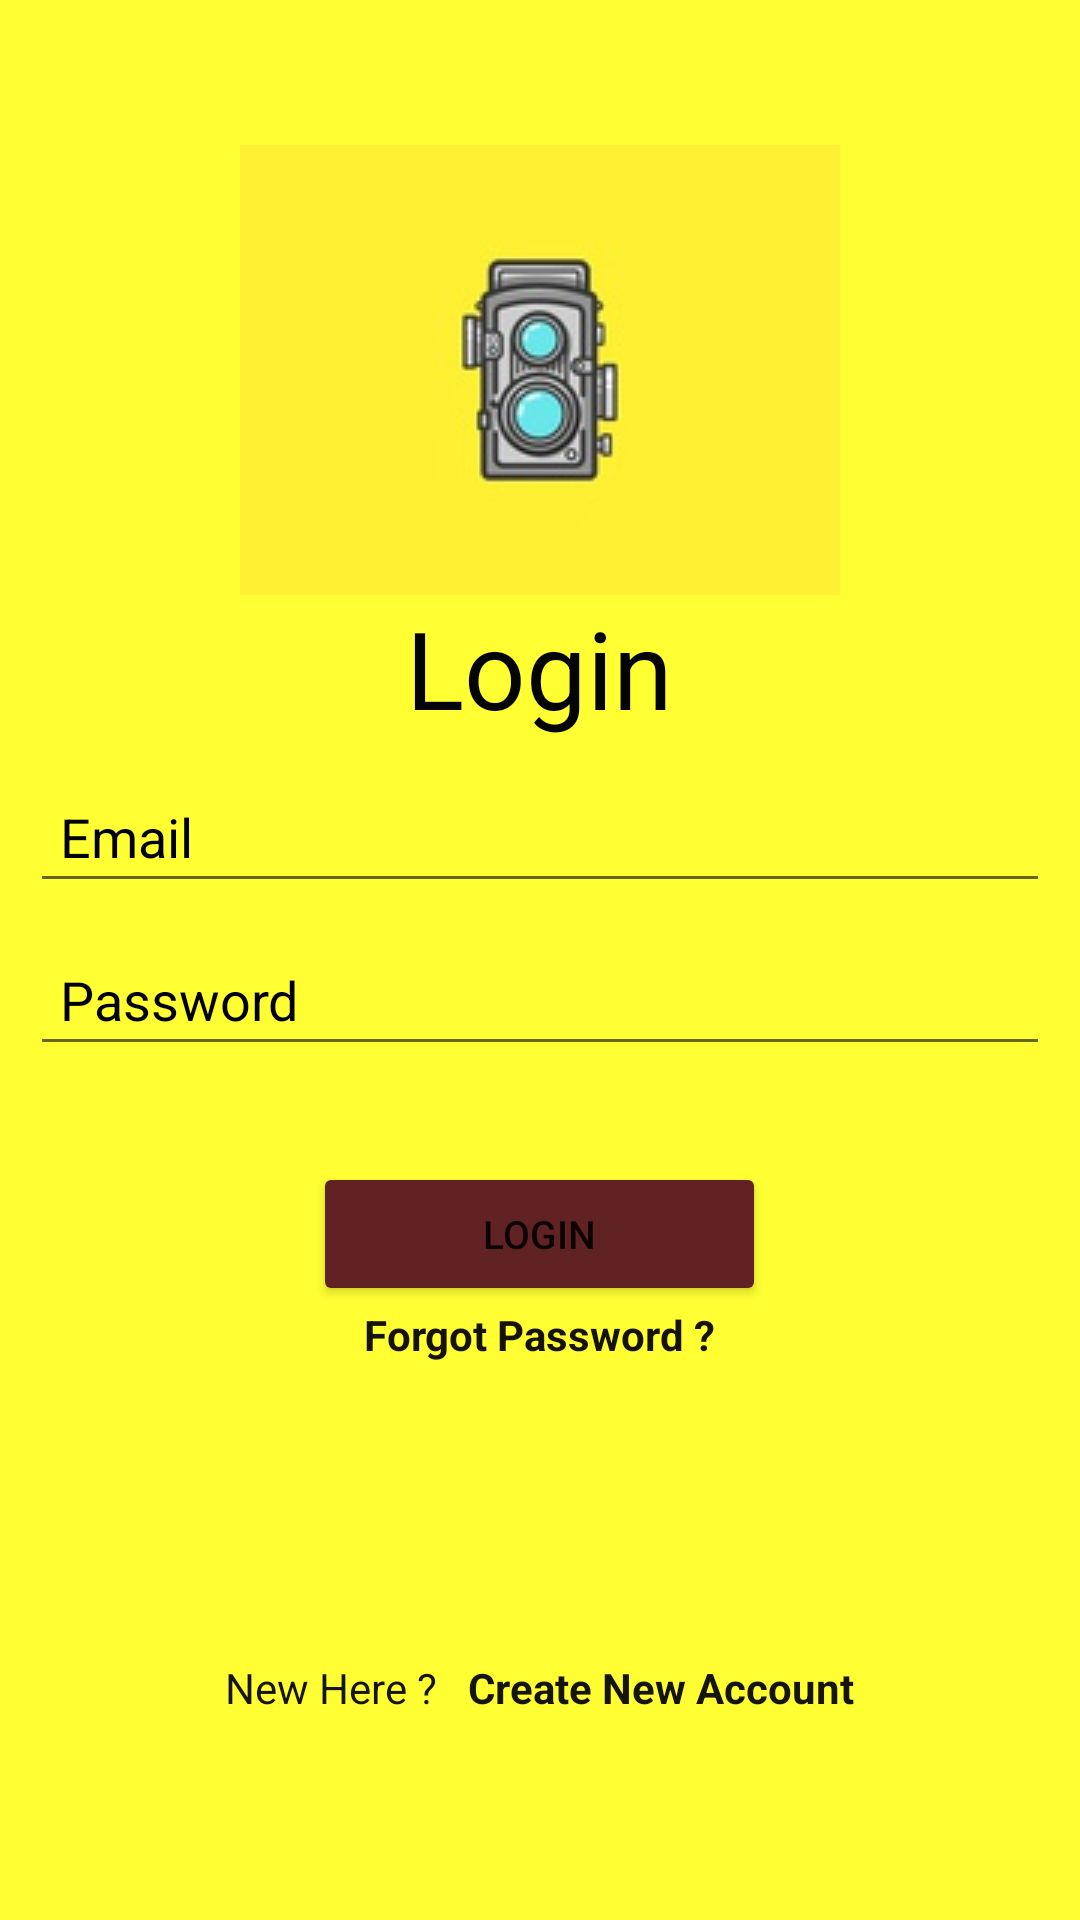

Icons on this 1080px×1920px Android screen, each with the point to tap as point (x, y):
campic: point (540, 370)
